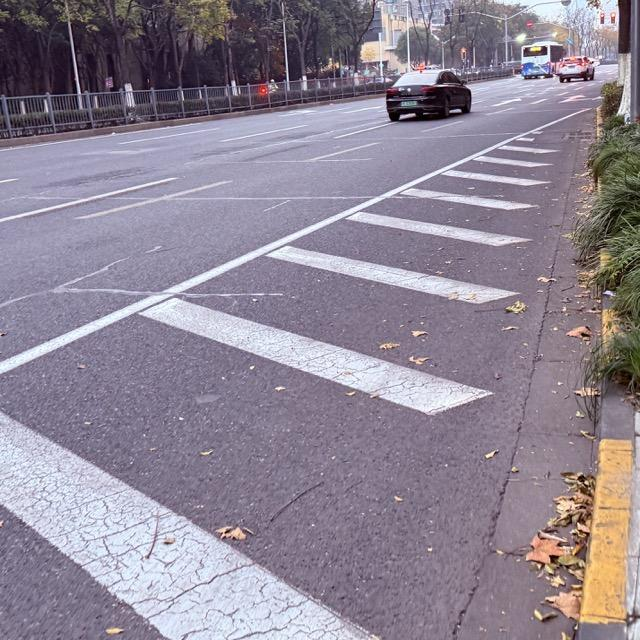curb: (0, 95, 379, 149), (575, 386, 634, 639)
